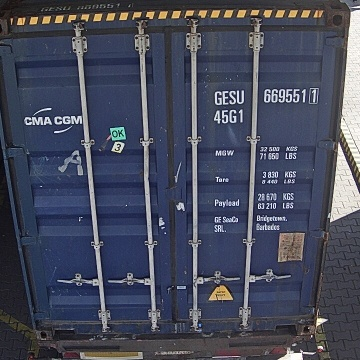serial_id: (215, 88, 318, 104)
